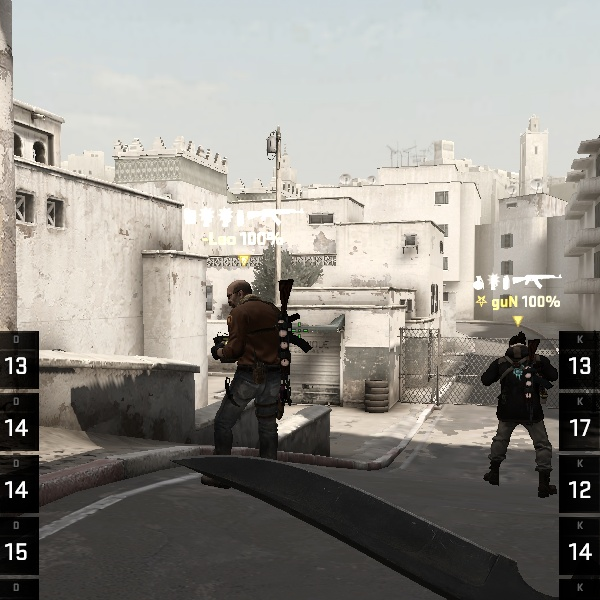t_body: (188, 269, 318, 477), (474, 327, 572, 497)
t_head: (501, 328, 541, 369), (221, 274, 262, 314)
